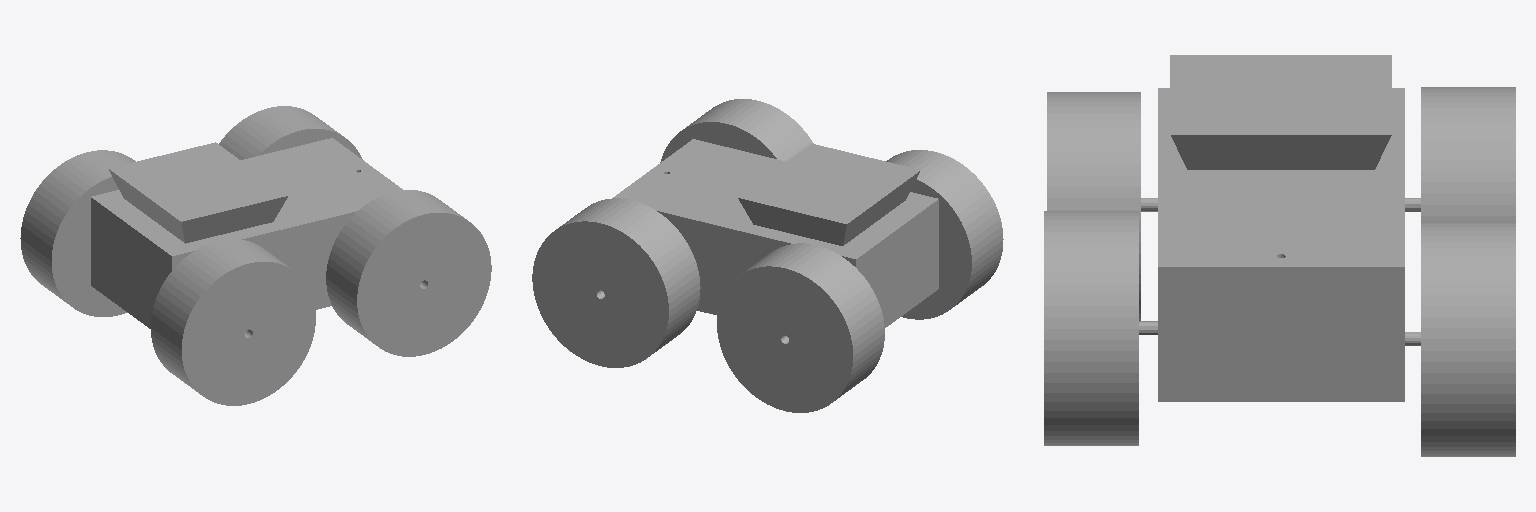
robot.urdf — ros_robot:
<?xml version="1.0" encoding="utf-8"?>
<!-- =================================================================================== -->
<!-- |    This document was autogenerated by xacro from ros_robot.xacro                | -->
<!-- |    EDITING THIS FILE BY HAND IS NOT RECOMMENDED                                 | -->
<!-- =================================================================================== -->
<robot name="ros_robot">
  <material name="silver">
    <color rgba="0.700 0.700 0.700 1.000"/>
  </material>
  <transmission name="Rev5_tran">
    <type>transmission_interface/SimpleTransmission</type>
    <joint name="Rev5">
      <hardwareInterface>hardware_interface/EffortJointInterface</hardwareInterface>
    </joint>
    <actuator name="Rev5_actr">
      <hardwareInterface>hardware_interface/EffortJointInterface</hardwareInterface>
      <mechanicalReduction>1</mechanicalReduction>
    </actuator>
  </transmission>
  <transmission name="Rev11_tran">
    <type>transmission_interface/SimpleTransmission</type>
    <joint name="Rev11">
      <hardwareInterface>hardware_interface/EffortJointInterface</hardwareInterface>
    </joint>
    <actuator name="Rev11_actr">
      <hardwareInterface>hardware_interface/EffortJointInterface</hardwareInterface>
      <mechanicalReduction>1</mechanicalReduction>
    </actuator>
  </transmission>
  <transmission name="Rev12_tran">
    <type>transmission_interface/SimpleTransmission</type>
    <joint name="Rev12">
      <hardwareInterface>hardware_interface/EffortJointInterface</hardwareInterface>
    </joint>
    <actuator name="Rev12_actr">
      <hardwareInterface>hardware_interface/EffortJointInterface</hardwareInterface>
      <mechanicalReduction>1</mechanicalReduction>
    </actuator>
  </transmission>
  <gazebo>
    <plugin filename="libgazebo_ros_control.so" name="control"/>
  </gazebo>
  <gazebo reference="base_link">
    <material>Gazebo/Silver</material>
    <mu1>0.2</mu1>
    <mu2>0.2</mu2>
    <selfCollide>true</selfCollide>
    <gravity>true</gravity>
  </gazebo>
  <gazebo reference="top_plate_1">
    <material>Gazebo/Silver</material>
    <mu1>0.2</mu1>
    <mu2>0.2</mu2>
    <selfCollide>true</selfCollide>
  </gazebo>
  <gazebo reference="wheel_rear_left_1">
    <material>Gazebo/Silver</material>
    <mu1>0.2</mu1>
    <mu2>0.2</mu2>
    <selfCollide>true</selfCollide>
  </gazebo>
  <gazebo reference="kinect_1">
    <material>Gazebo/Silver</material>
    <mu1>0.2</mu1>
    <mu2>0.2</mu2>
    <selfCollide>true</selfCollide>
  </gazebo>
  <gazebo reference="motor_right_1">
    <material>Gazebo/Silver</material>
    <mu1>0.2</mu1>
    <mu2>0.2</mu2>
    <selfCollide>true</selfCollide>
  </gazebo>
  <gazebo reference="motor_left_1">
    <material>Gazebo/Silver</material>
    <mu1>0.2</mu1>
    <mu2>0.2</mu2>
    <selfCollide>true</selfCollide>
  </gazebo>
  <gazebo reference="wheel_front_left_1">
    <material>Gazebo/Silver</material>
    <mu1>0.2</mu1>
    <mu2>0.2</mu2>
    <selfCollide>true</selfCollide>
  </gazebo>
  <gazebo reference="wheel_rear_right_1">
    <material>Gazebo/Silver</material>
    <mu1>0.2</mu1>
    <mu2>0.2</mu2>
    <selfCollide>true</selfCollide>
  </gazebo>
  <gazebo reference="wheel_front_right_1">
    <material>Gazebo/Silver</material>
    <mu1>0.2</mu1>
    <mu2>0.2</mu2>
    <selfCollide>true</selfCollide>
  </gazebo>
  <link name="base_link">
    <inertial>
      <origin rpy="0 0 0" xyz="0.1158388397613685 0.10109007722221264 0.05032988922468174"/>
      <mass value="1.2049572619011009"/>
      <inertia ixx="0.002389" ixy="5.9e-05" ixz="-2e-06" iyy="0.005092" iyz="2e-06" izz="0.006572"/>
    </inertial>
    <visual>
      <origin rpy="0 0 0" xyz="0 0 0"/>
      <geometry>
        <mesh filename="package://ros_robot_description/meshes/base_link.stl" scale="0.001 0.001 0.001"/>
      </geometry>
      <material name="silver"/>
    </visual>
    <collision>
      <origin rpy="0 0 0" xyz="0 0 0"/>
      <geometry>
        <mesh filename="package://ros_robot_description/meshes/base_link.stl" scale="0.001 0.001 0.001"/>
      </geometry>
    </collision>
  </link>
  <link name="top_plate_1">
    <inertial>
      <origin rpy="0 0 0" xyz="0.11575137352044365 0.048604813248326516 0.09148906722549498"/>
      <mass value="0.4447990619720318"/>
      <inertia ixx="0.000409" ixy="-0.0" ixz="0.0" iyy="0.0012" iyz="0.0" izz="0.001609"/>
    </inertial>
    <visual>
      <origin rpy="0 0 0" xyz="-0.0 -0.0525 -0.0"/>
      <geometry>
        <mesh filename="package://ros_robot_description/meshes/top_plate_1.stl" scale="0.001 0.001 0.001"/>
      </geometry>
      <material name="silver"/>
    </visual>
    <collision>
      <origin rpy="0 0 0" xyz="-0.0 -0.0525 -0.0"/>
      <geometry>
        <mesh filename="package://ros_robot_description/meshes/top_plate_1.stl" scale="0.001 0.001 0.001"/>
      </geometry>
    </collision>
  </link>
  <link name="wheel_rear_left_1">
    <inertial>
      <origin rpy="0 0 0" xyz="0.1858039345670089 -0.019395186751674044 0.05498906722549458"/>
      <mass value="2.4569736880507413"/>
      <inertia ixx="0.001869" ixy="-0.0" ixz="0.0" iyy="0.003083" iyz="-0.0" izz="0.001869"/>
    </inertial>
    <visual>
      <origin rpy="0 0 0" xyz="-0.0 -0.04 -0.0"/>
      <geometry>
        <mesh filename="package://ros_robot_description/meshes/wheel_rear_left_1.stl" scale="0.001 0.001 0.001"/>
      </geometry>
      <material name="silver"/>
    </visual>
    <collision>
      <origin rpy="0 0 0" xyz="-0.0 -0.04 -0.0"/>
      <geometry>
        <mesh filename="package://ros_robot_description/meshes/wheel_rear_left_1.stl" scale="0.001 0.001 0.001"/>
      </geometry>
    </collision>
  </link>
  <link name="kinect_1">
    <inertial>
      <origin rpy="0 0 0" xyz="0.03605493456701083 0.06835581324832721 0.10360039458001304"/>
      <mass value="0.9942712642270771"/>
      <inertia ixx="0.000665" ixy="-0.0" ixz="0.0" iyy="0.000479" iyz="-0.0" izz="0.001077"/>
    </inertial>
    <visual>
      <origin rpy="0 0 0" xyz="-0.039749 -0.032749 0.0"/>
      <geometry>
        <mesh filename="package://ros_robot_description/meshes/kinect_1.stl" scale="0.001 0.001 0.001"/>
      </geometry>
      <material name="silver"/>
    </visual>
    <collision>
      <origin rpy="0 0 0" xyz="-0.039749 -0.032749 0.0"/>
      <geometry>
        <mesh filename="package://ros_robot_description/meshes/kinect_1.stl" scale="0.001 0.001 0.001"/>
      </geometry>
    </collision>
  </link>
  <link name="motor_right_1">
    <inertial>
      <origin rpy="0 0 0" xyz="0.18580393456701955 0.16772635147626097 0.04984029245709425"/>
      <mass value="0.5120118768661088"/>
      <inertia ixx="0.000373" ixy="-0.0" ixz="0.0" iyy="6.5e-05" iyz="4e-06" izz="0.000372"/>
    </inertial>
    <visual>
      <origin rpy="0 0 0" xyz="-0.0 0.0603 -0.006"/>
      <geometry>
        <mesh filename="package://ros_robot_description/meshes/motor_right_1.stl" scale="0.001 0.001 0.001"/>
      </geometry>
      <material name="silver"/>
    </visual>
    <collision>
      <origin rpy="0 0 0" xyz="-0.0 0.0603 -0.006"/>
      <geometry>
        <mesh filename="package://ros_robot_description/meshes/motor_right_1.stl" scale="0.001 0.001 0.001"/>
      </geometry>
    </collision>
  </link>
  <link name="motor_left_1">
    <inertial>
      <origin rpy="0 0 0" xyz="0.05665515979861051 0.15508327502039337 0.04398906722550343"/>
      <mass value="0.512011876866109"/>
      <inertia ixx="0.000372" ixy="-4e-06" ixz="0.0" iyy="6.5e-05" iyz="0.0" izz="0.000373"/>
    </inertial>
    <visual>
      <origin rpy="0 0 0" xyz="-0.0 0.0603 -0.006"/>
      <geometry>
        <mesh filename="package://ros_robot_description/meshes/motor_left_1.stl" scale="0.001 0.001 0.001"/>
      </geometry>
      <material name="silver"/>
    </visual>
    <collision>
      <origin rpy="0 0 0" xyz="-0.0 0.0603 -0.006"/>
      <geometry>
        <mesh filename="package://ros_robot_description/meshes/motor_left_1.stl" scale="0.001 0.001 0.001"/>
      </geometry>
    </collision>
  </link>
  <link name="wheel_front_left_1">
    <inertial>
      <origin rpy="0 0 0" xyz="0.05580393456700972 -0.018395186751673665 0.04998906722549404"/>
      <mass value="2.4569736880507413"/>
      <inertia ixx="0.001869" ixy="-0.0" ixz="0.0" iyy="0.003083" iyz="-0.0" izz="0.001869"/>
    </inertial>
    <visual>
      <origin rpy="0 0 0" xyz="-0.0 -0.04 -0.0"/>
      <geometry>
        <mesh filename="package://ros_robot_description/meshes/wheel_front_left_1.stl" scale="0.001 0.001 0.001"/>
      </geometry>
      <material name="silver"/>
    </visual>
    <collision>
      <origin rpy="0 0 0" xyz="-0.0 -0.04 -0.0"/>
      <geometry>
        <mesh filename="package://ros_robot_description/meshes/wheel_front_left_1.stl" scale="0.001 0.001 0.001"/>
      </geometry>
    </collision>
  </link>
  <link name="wheel_rear_right_1">
    <inertial>
      <origin rpy="0 0 0" xyz="0.18580393456700908 0.18060481324832814 0.04998906722549435"/>
      <mass value="2.4569736880507413"/>
      <inertia ixx="0.001869" ixy="0.0" ixz="0.0" iyy="0.003083" iyz="0.0" izz="0.001869"/>
    </inertial>
    <visual>
      <origin rpy="0 0 0" xyz="-0.0 -0.0 -0.0"/>
      <geometry>
        <mesh filename="package://ros_robot_description/meshes/wheel_rear_right_1.stl" scale="0.001 0.001 0.001"/>
      </geometry>
      <material name="silver"/>
    </visual>
    <collision>
      <origin rpy="0 0 0" xyz="-0.0 -0.0 -0.0"/>
      <geometry>
        <mesh filename="package://ros_robot_description/meshes/wheel_rear_right_1.stl" scale="0.001 0.001 0.001"/>
      </geometry>
    </collision>
  </link>
  <link name="wheel_front_right_1">
    <inertial>
      <origin rpy="0 0 0" xyz="0.0508039345670098 0.1806048132483284 0.04998906722549405"/>
      <mass value="2.4569736880507413"/>
      <inertia ixx="0.001869" ixy="-0.0" ixz="0.0" iyy="0.003083" iyz="0.0" izz="0.001869"/>
    </inertial>
    <visual>
      <origin rpy="0 0 0" xyz="-0.0 -0.0 0.0"/>
      <geometry>
        <mesh filename="package://ros_robot_description/meshes/wheel_front_right_1.stl" scale="0.001 0.001 0.001"/>
      </geometry>
      <material name="silver"/>
    </visual>
    <collision>
      <origin rpy="0 0 0" xyz="-0.0 -0.0 0.0"/>
      <geometry>
        <mesh filename="package://ros_robot_description/meshes/wheel_front_right_1.stl" scale="0.001 0.001 0.001"/>
      </geometry>
    </collision>
  </link>
  <joint name="Rigid3" type="fixed">
    <origin rpy="0 0 0" xyz="0.0 0.0525 0.0"/>
    <parent link="base_link"/>
    <child link="top_plate_1"/>
  </joint>
  <joint name="Rev5" type="continuous">
    <origin rpy="0 0 0" xyz="0.0 0.04 0.0"/>
    <parent link="base_link"/>
    <child link="wheel_rear_left_1"/>
    <axis xyz="0.0 -1.0 0.0"/>
  </joint>
  <joint name="Rigid8" type="fixed">
    <origin rpy="0 0 0" xyz="0.039749 -0.019751 -0.0"/>
    <parent link="top_plate_1"/>
    <child link="kinect_1"/>
  </joint>
  <joint name="Rigid9" type="fixed">
    <origin rpy="0 0 0" xyz="0.0 -0.0603 0.006"/>
    <parent link="base_link"/>
    <child link="motor_right_1"/>
  </joint>
  <joint name="Rigid10" type="fixed">
    <origin rpy="0 0 0" xyz="0.0 -0.0603 0.006"/>
    <parent link="base_link"/>
    <child link="motor_left_1"/>
  </joint>
  <joint name="Rev11" type="continuous">
    <origin rpy="0 0 0" xyz="0.0 0.1003 -0.006"/>
    <parent link="motor_left_1"/>
    <child link="wheel_front_left_1"/>
    <axis xyz="0.0 -1.0 0.0"/>
  </joint>
  <joint name="Rev12" type="continuous">
    <origin rpy="0 0 0" xyz="0.0 0.0603 -0.006"/>
    <parent link="motor_right_1"/>
    <child link="wheel_rear_right_1"/>
    <axis xyz="-0.0 1.0 -0.0"/>
  </joint>
  <joint name="Rigid14" type="fixed">
    <origin rpy="0 0 0" xyz="0.0 0.0 0.0"/>
    <parent link="base_link"/>
    <child link="wheel_front_right_1"/>
  </joint>
</robot>

--- Facts derived from the render (not from the file) ---
Views: 3 orthographic renders of the robot side by side, from view 1: azimuth 30°, elevation 25°; view 2: azimuth 150°, elevation 25°; view 3: azimuth 270°, elevation 25°.
Model ros_robot with 9 links and 8 joints (3 continuous, 5 fixed), rooted at base_link, posed every joint at zero.
Visible links, largest first — view 1: wheel_front_left_1, wheel_rear_left_1, top_plate_1, kinect_1, wheel_front_right_1, base_link, wheel_rear_right_1; view 2: wheel_front_right_1, wheel_rear_right_1, top_plate_1, kinect_1, base_link, wheel_front_left_1, wheel_rear_left_1; view 3: base_link, top_plate_1, kinect_1, wheel_rear_right_1, wheel_rear_left_1, wheel_front_right_1, wheel_front_left_1.
Boxes of the visible links, box(x1,y1,x2,y2) form: wheel_front_left_1: box(151, 239, 315, 405); wheel_rear_left_1: box(326, 190, 491, 356); top_plate_1: box(91, 138, 402, 260); kinect_1: box(108, 142, 288, 243); wheel_front_right_1: box(20, 150, 135, 316); base_link: box(91, 202, 350, 328); wheel_rear_right_1: box(219, 106, 362, 159); wheel_front_right_1: box(717, 243, 884, 412); wheel_rear_right_1: box(532, 198, 700, 367); top_plate_1: box(612, 139, 938, 263); kinect_1: box(738, 144, 920, 245); base_link: box(666, 204, 938, 327); wheel_front_left_1: box(886, 150, 1003, 319); wheel_rear_left_1: box(660, 99, 813, 162); base_link: box(1139, 198, 1420, 401); top_plate_1: box(1158, 88, 1404, 273); kinect_1: box(1170, 55, 1391, 169); wheel_rear_right_1: box(1421, 221, 1515, 456); wheel_rear_left_1: box(1044, 211, 1138, 445); wheel_front_right_1: box(1421, 87, 1515, 220); wheel_front_left_1: box(1047, 92, 1140, 320).
Bounding box of the posed robot: 0.2349 × 0.2 × 0.113 m (x, y, z).
9 mesh visuals loaded from 9 distinct referenced files (9 binary STL).